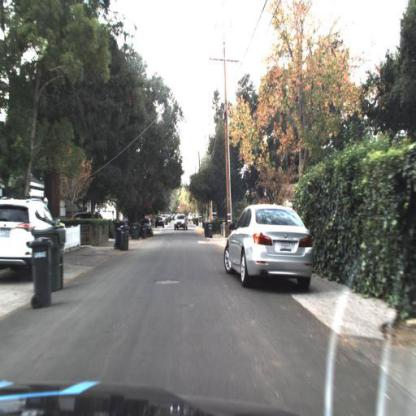car: (222, 201, 318, 287), (1, 198, 62, 283), (68, 207, 105, 230), (175, 215, 189, 231), (142, 219, 153, 236), (154, 217, 165, 231), (209, 212, 219, 224), (187, 213, 194, 223)
